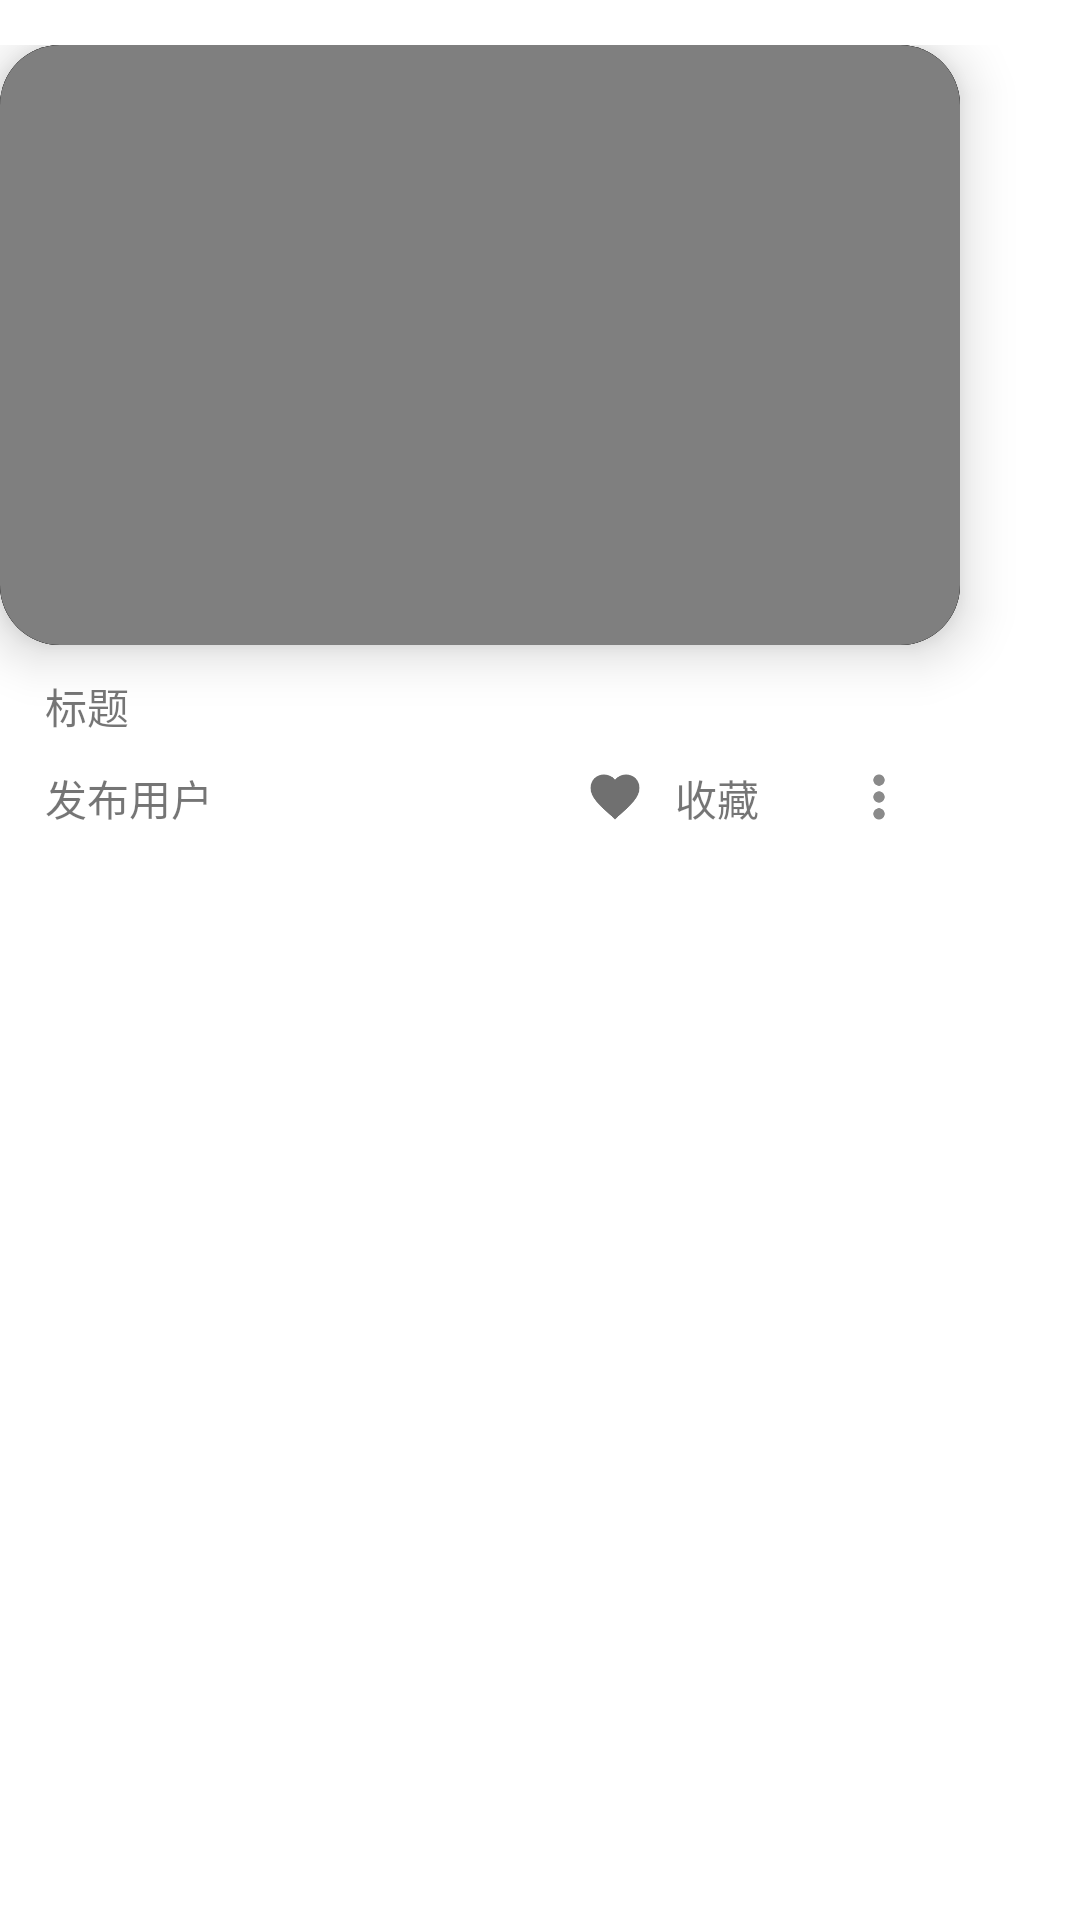

Named icons in this screenshot (1080 x 1920) and their centers, point (x, y):
gengduo: point (879, 797)
